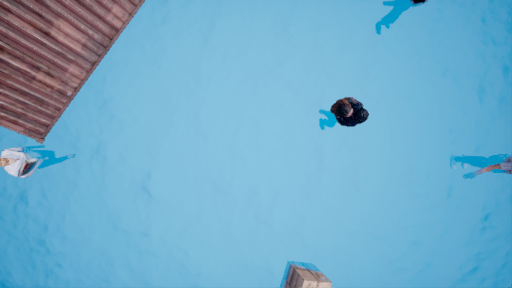person: (1, 143, 78, 182), (311, 95, 371, 137)
